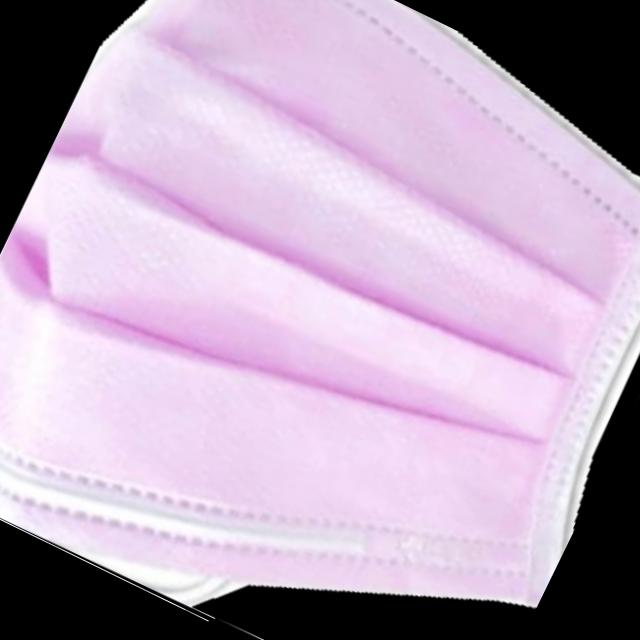others: (0, 0, 640, 610)
